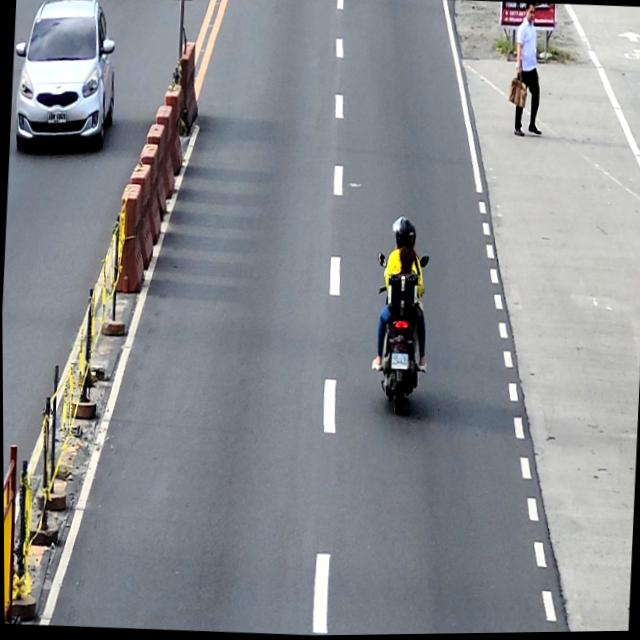Car: (9, 0, 119, 158)
License-Plate: (390, 354, 407, 371), (47, 112, 67, 125)
Motorcycle: (367, 250, 432, 422)
